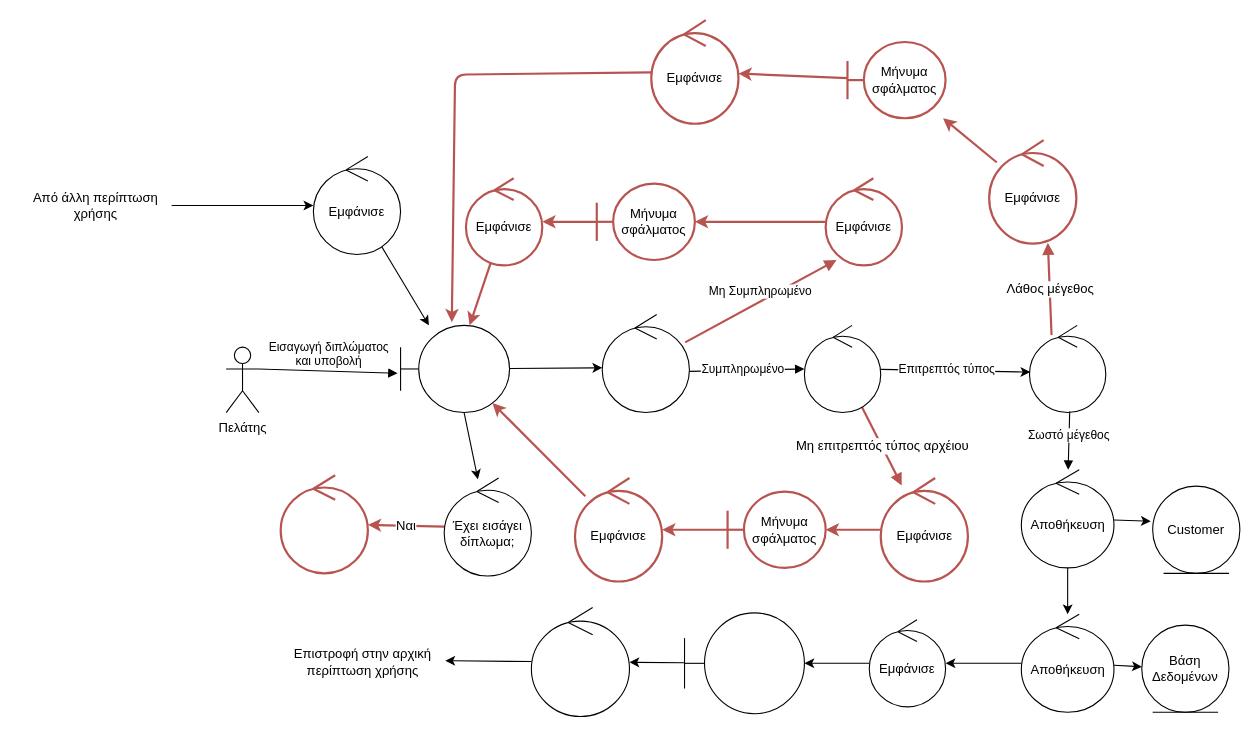
Some shapes in this 1259 by 736 pixel diagram are drawn without their labels. Here are the shapes that lost their labels. From the top down, the centre of each, then its label:
the point at 454,368: Σελίδα "Εισαγωγή Διπλώματος"
the point at 645,363: Έλεγχος υποχρεωτικού πεδιου
the point at 842,368: Έλεγχος τύπου εικόνας
the point at 1067,368: Έλεγχος μεγέθους εικόνας
the point at 323,524: Εμφάνισε δίπλωμα
the point at 579,661: Κλείσιμο μηνύματος
the point at 743,663: Μήνυμα αναμονής έγκρισης διπλώματος
